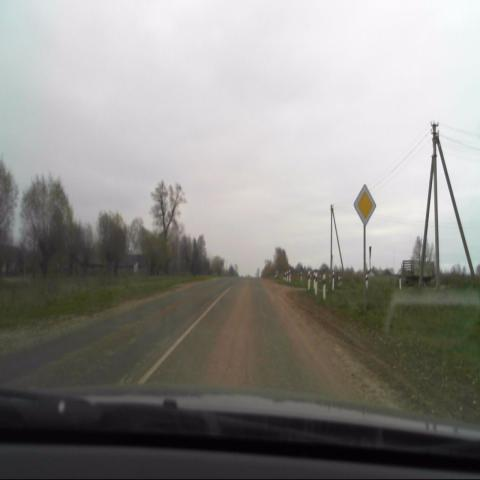2_1: (353, 183, 378, 228)
